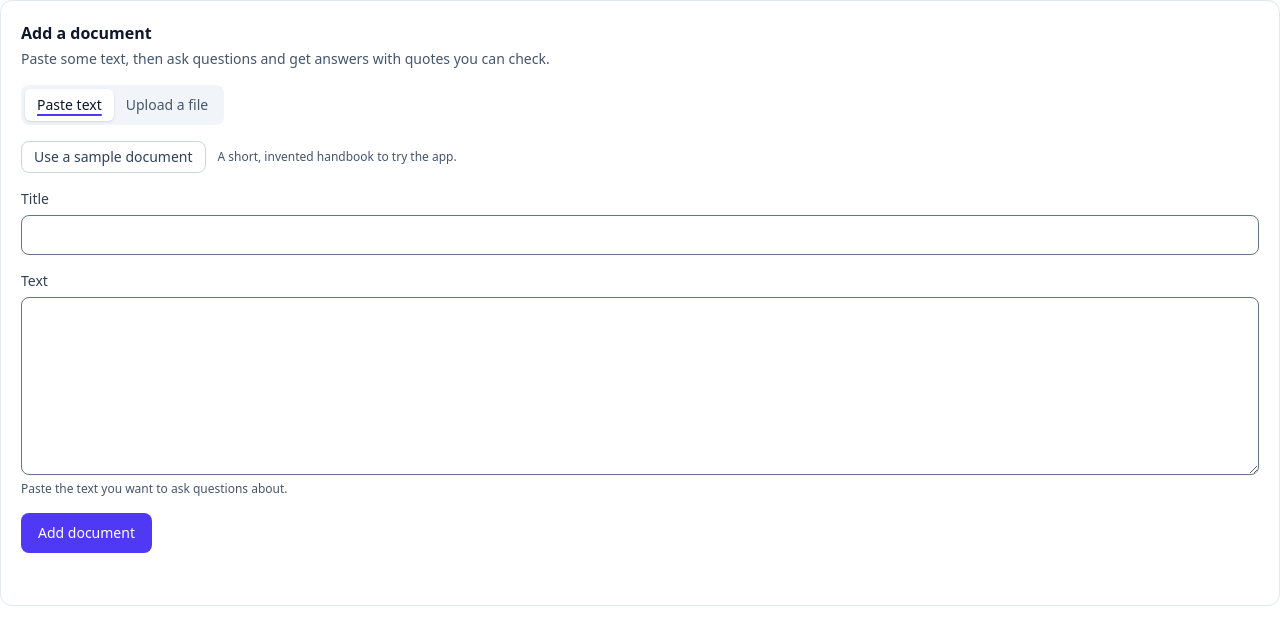
Test: NewDocumentForm: file upload › asks for a file before sending anything
Click the tab "Upload a file": (167, 105) top-left (114, 89), bottom-right (220, 121)
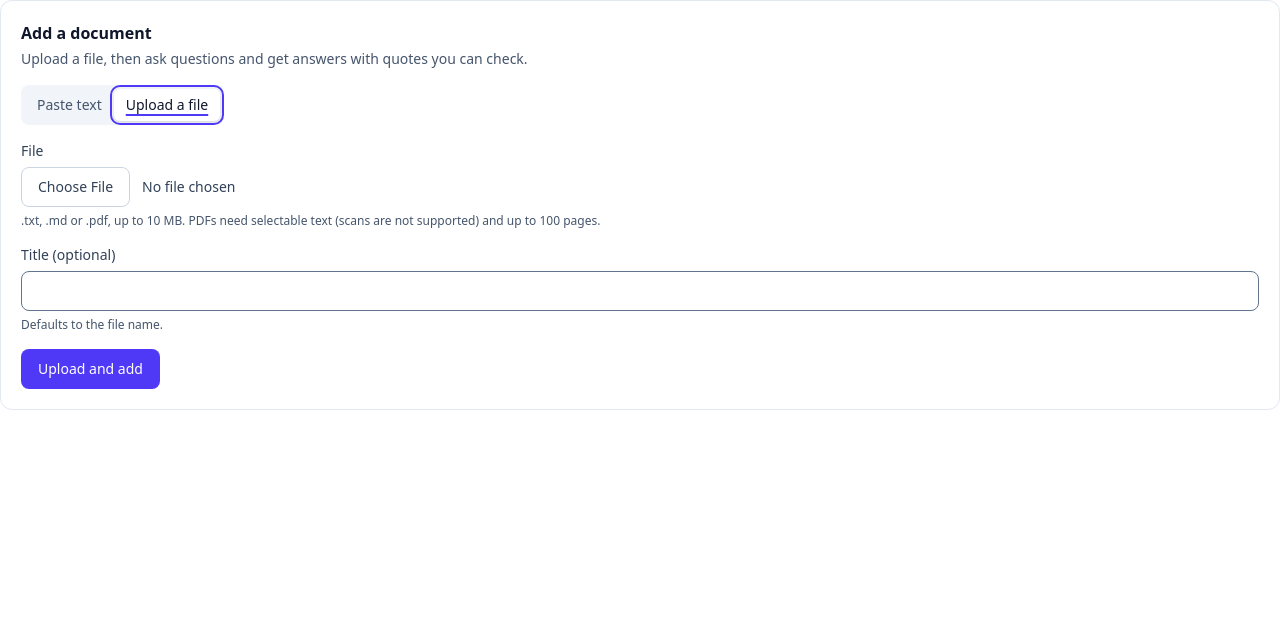
Click the button "Upload and add": (90, 369) top-left (21, 349), bottom-right (160, 389)
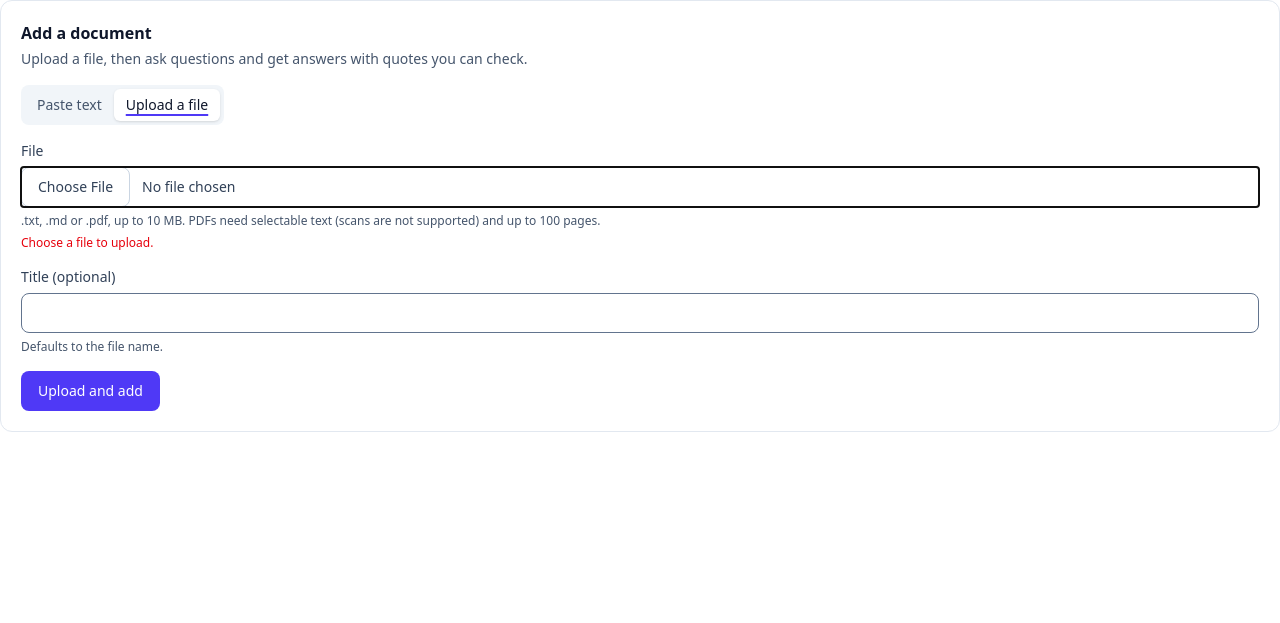
Expected: the text "Choose a file to upload." is shown, top-left (21, 234), bottom-right (153, 251)
